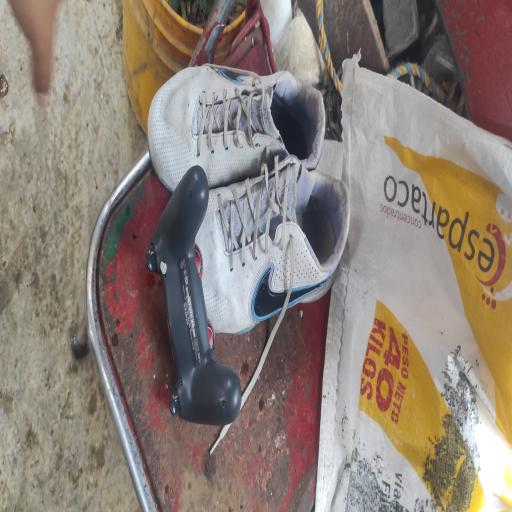ControlPlay4: (146, 166, 241, 425)
